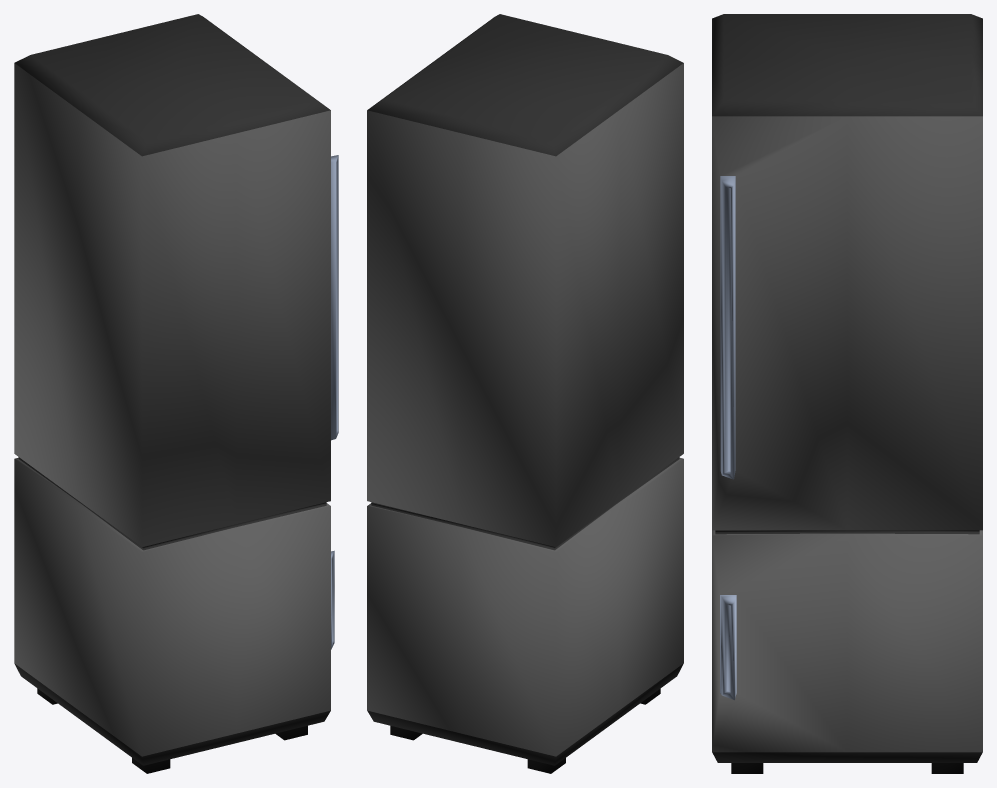
The model's file is refrigerator(1).fbx.
The picture shows the model from 3 angles, left to right: view 1: azimuth 30°, elevation 25°; view 2: azimuth 150°, elevation 25°; view 3: azimuth 270°, elevation 25°; orthographic projection. The views are drawn at different scales.
Parts seen in each view (by area): view 1: Cube; view 2: Cube; view 3: Cube.
Boxes of the visible parts, x1,y1,x2,y2 form: Cube: [14, 14, 338, 773]; Cube: [367, 14, 683, 773]; Cube: [712, 14, 982, 773].
Bounding box in the file's own units: 177 × 520 × 189.
